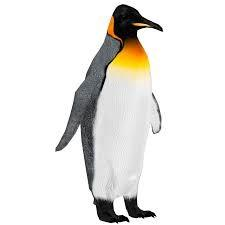king: (61, 1, 170, 221)
